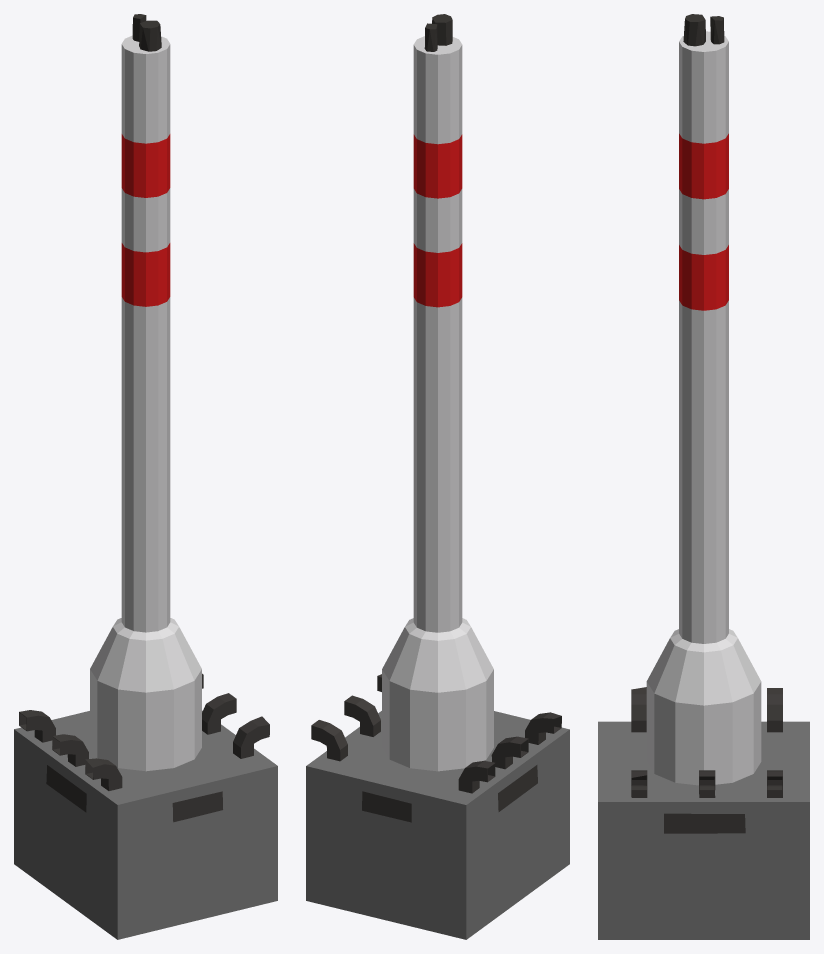
Rendered from SM_Factory_Smoke_pipe_03.glb.
The picture shows the model from 3 angles, left to right: view 1: azimuth 30°, elevation 25°; view 2: azimuth 150°, elevation 25°; view 3: azimuth 270°, elevation 25°; orthographic projection. The views are drawn at different scales.
Parts seen in each view (by area): view 1: SM_Factory_Smoke_pipe_03; view 2: SM_Factory_Smoke_pipe_03; view 3: SM_Factory_Smoke_pipe_03.
Part boxes in pixels (<box>): SM_Factory_Smoke_pipe_03: <box>14,14,277,939</box>; SM_Factory_Smoke_pipe_03: <box>306,14,569,939</box>; SM_Factory_Smoke_pipe_03: <box>598,14,809,939</box>.
Bounding box in the file's own units: 2.21 × 10.28 × 2.24.
Materials: 1 (1 with a texture image).
